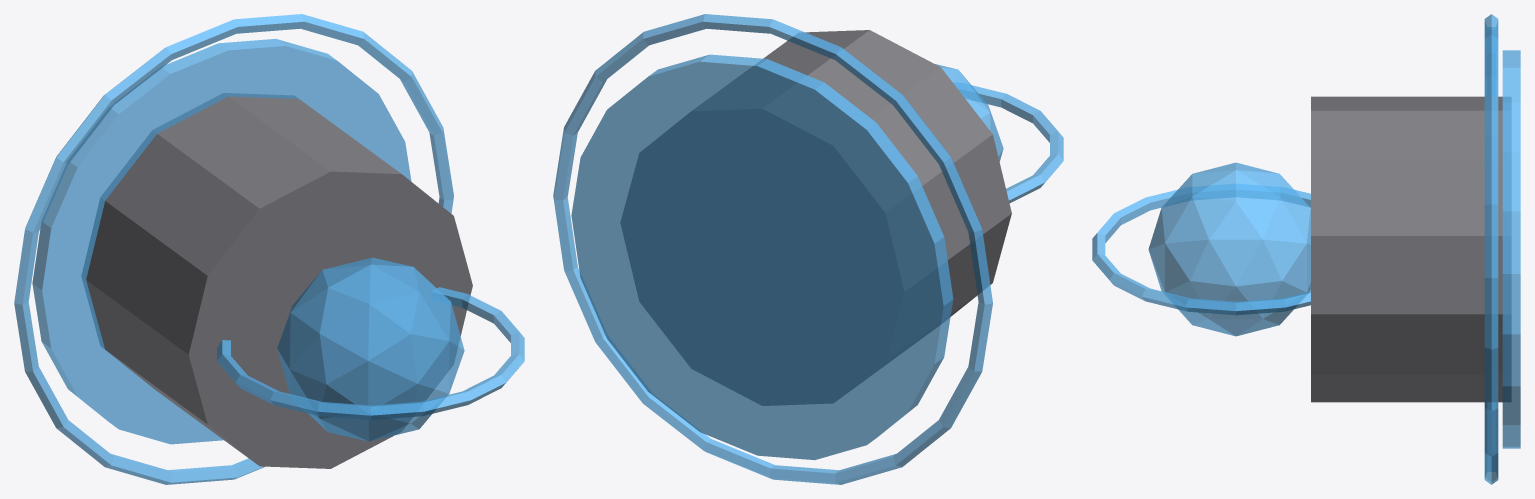
The model's file is 01_cutscene_camera_marker.glb.
3 views of the same model, side by side, from view 1: azimuth 30°, elevation 25°; view 2: azimuth 150°, elevation 25°; view 3: azimuth 270°, elevation 25° (orthographic). The views are drawn at different scales.
Parts seen in each view (by area): view 1: pedestal, base_disc, story_core, base_ring, halo; view 2: base_disc, pedestal, base_ring, halo, story_core; view 3: pedestal, story_core, base_disc, base_ring, halo.
Part boxes in pixels (left/top/right/bottom): pedestal: left=82, top=93, right=472, bottom=468; base_disc: left=32, top=38, right=411, bottom=444; story_core: left=277, top=257, right=464, bottom=441; base_ring: left=14, top=14, right=453, bottom=484; halo: left=217, top=287, right=524, bottom=419; base_disc: left=571, top=54, right=953, bottom=460; pedestal: left=621, top=30, right=1011, bottom=405; base_ring: left=553, top=14, right=992, bottom=484; halo: left=953, top=82, right=1063, bottom=202; story_core: left=935, top=64, right=1003, bottom=161; pedestal: left=1311, top=96, right=1510, bottom=402; story_core: left=1148, top=162, right=1310, bottom=336; base_disc: left=1502, top=50, right=1520, bottom=448; base_ring: left=1484, top=14, right=1498, bottom=484; halo: left=1092, top=184, right=1310, bottom=315.
Size of the model in its own units: 1.3 by 1.3 by 1.17.
